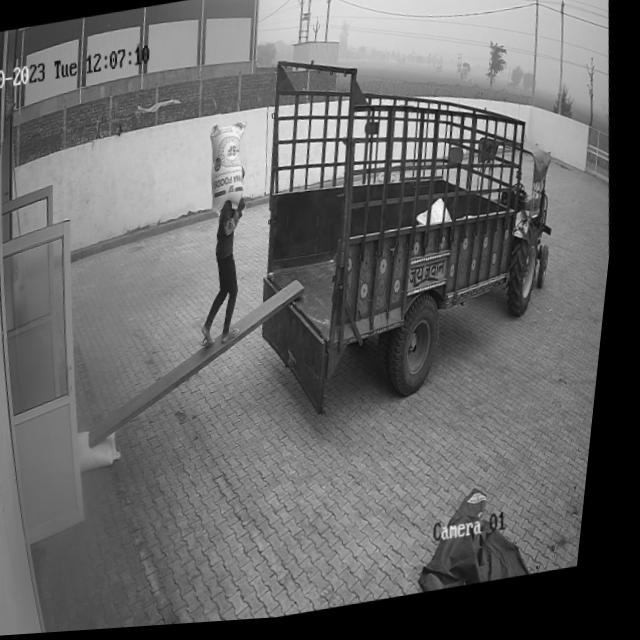sack: (205, 123, 256, 215), (83, 425, 134, 472)
